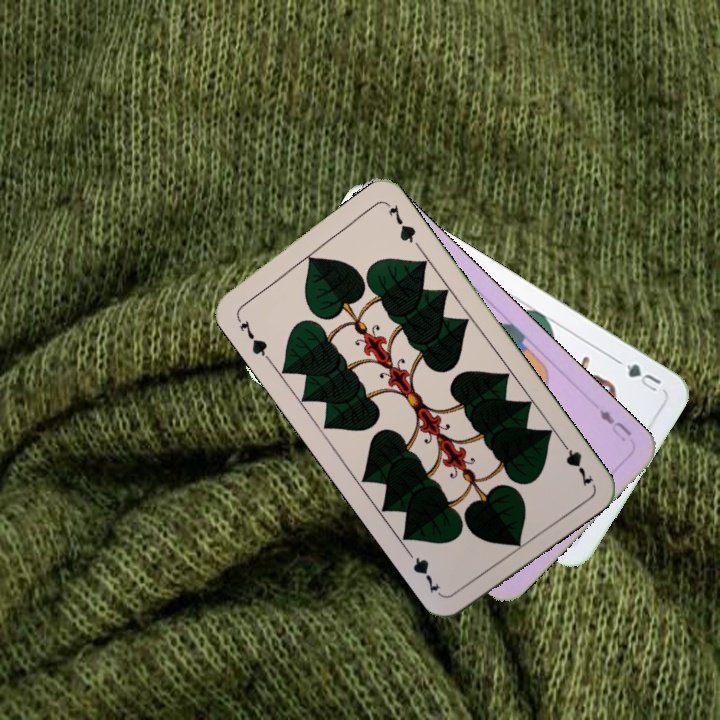EU: (595, 405, 635, 444)
G7: (555, 435, 596, 489), (232, 312, 273, 363)
GU: (613, 355, 664, 394)
